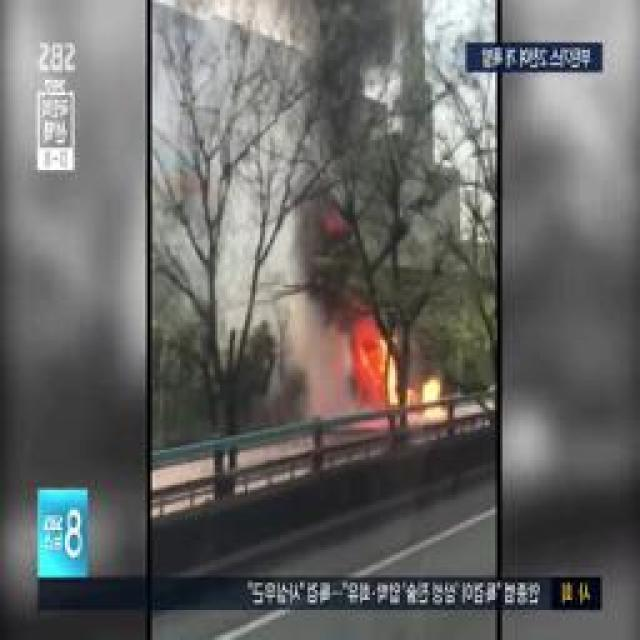Fire: (345, 319, 397, 418), (413, 380, 444, 430)
